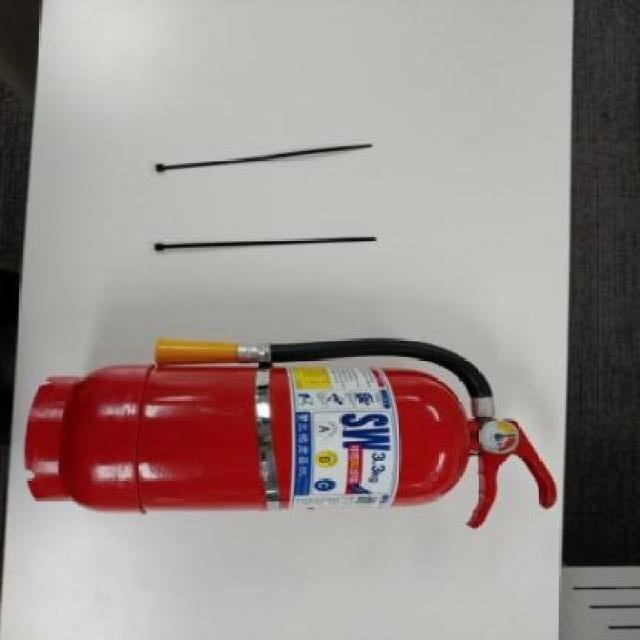fire extinguisher: (22, 338, 558, 530)
